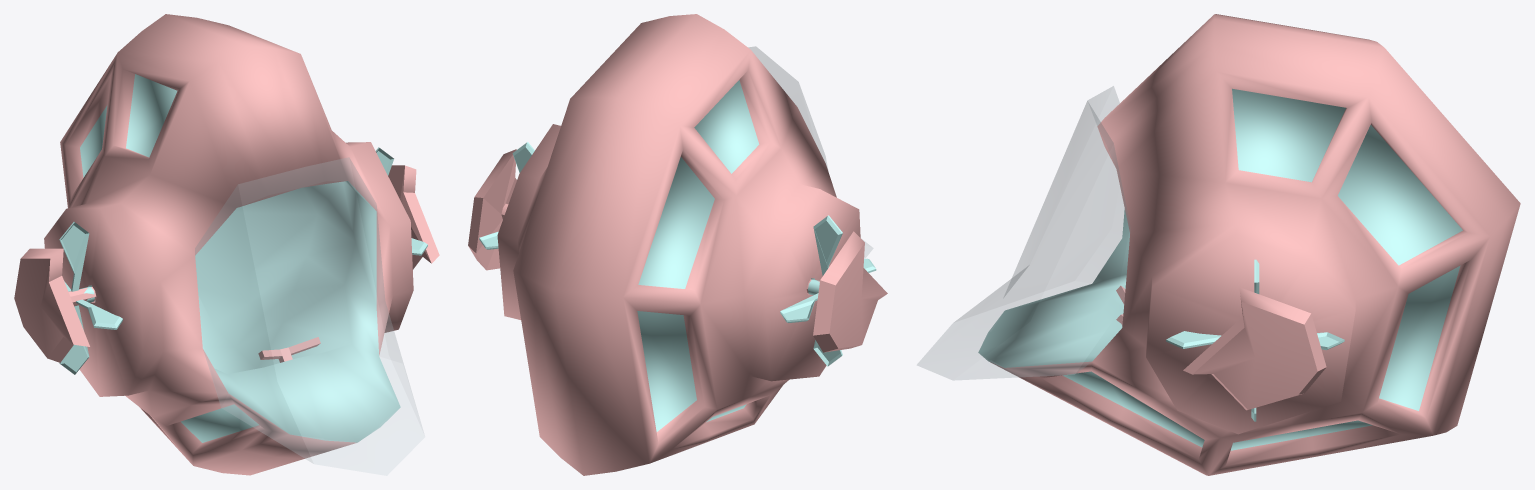
Rendered from submarine_wait.FBX.
3 renders of one model, left to right at view 1: azimuth 30°, elevation 25°; view 2: azimuth 150°, elevation 25°; view 3: azimuth 270°, elevation 25°, orthographic. The views are drawn at different scales.
Visible parts, largest first — view 1: Cylinder001, Cylinder002, Box001; view 2: Cylinder001, Cylinder002; view 3: Cylinder001, Cylinder002.
Boxes of the visible parts, left/top/right/bottom form: Cylinder001: left=14, top=14, right=439, bottom=475; Cylinder002: left=59, top=147, right=427, bottom=374; Box001: left=258, top=337, right=320, bottom=362; Cylinder001: left=468, top=14, right=887, bottom=475; Cylinder002: left=479, top=142, right=876, bottom=366; Cylinder001: left=917, top=14, right=1520, bottom=475; Cylinder002: left=1166, top=259, right=1344, bottom=421.
Bounding box in the file's own units: 104 × 114 × 138.
